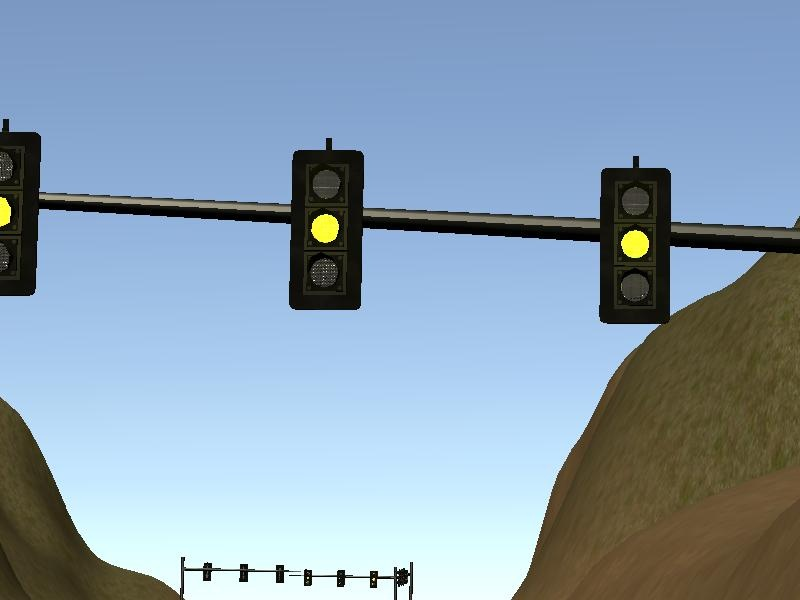yellow: (277, 131, 374, 320), (585, 154, 682, 331), (1, 113, 51, 319)
